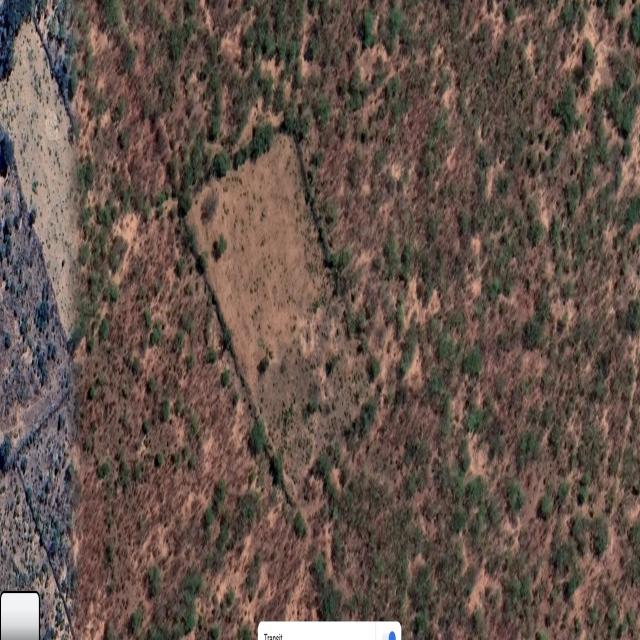boundaries: (170, 199, 299, 522), (291, 126, 388, 388), (171, 113, 303, 224), (294, 379, 384, 516)
